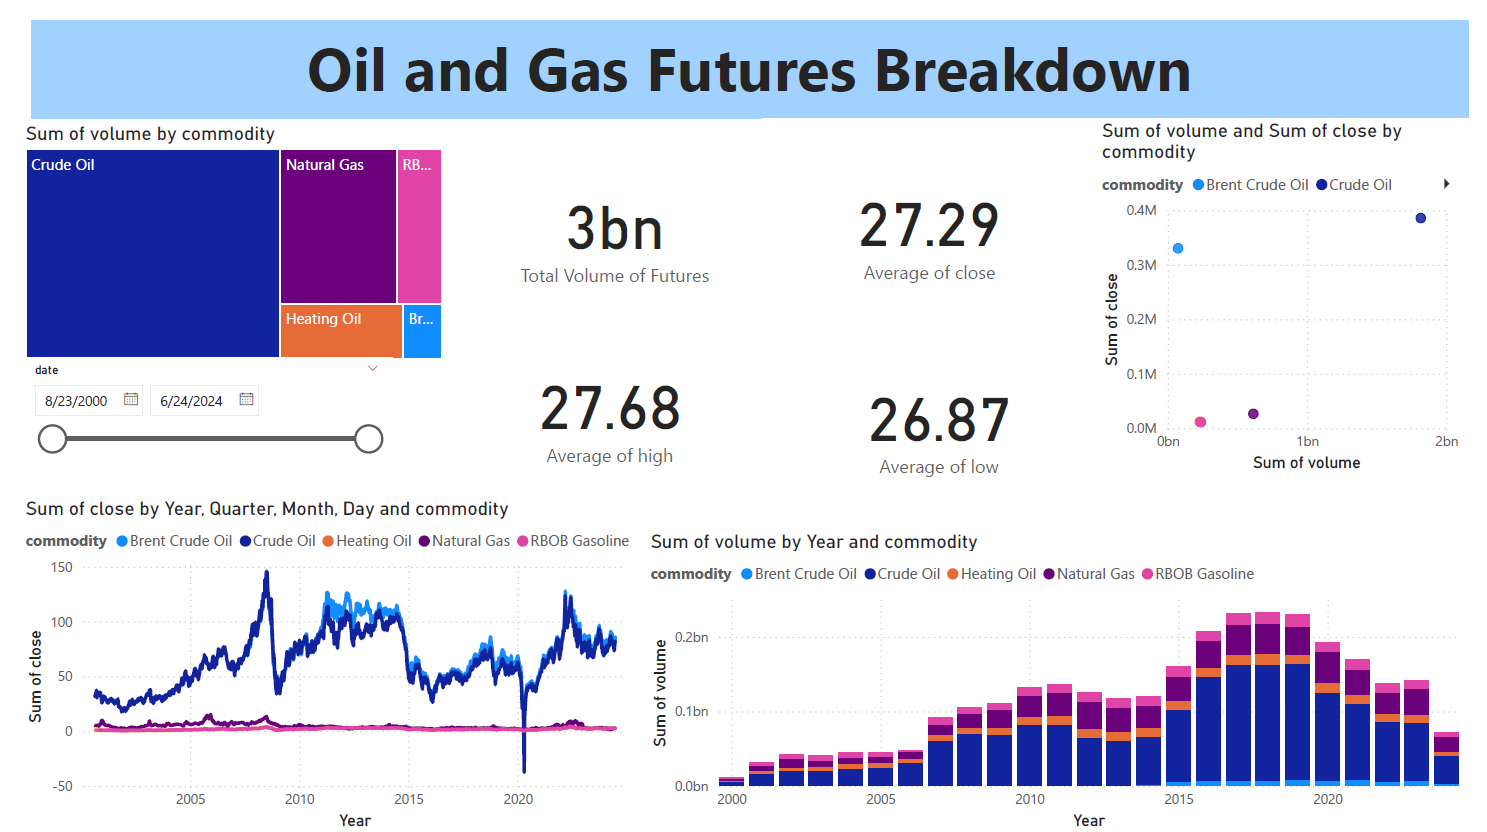

Layout of this report page (visuals, bound fields, positions):
{"tool":"powerbi","page":{"name":"Main","canvas":[1280,720],"ordinal":0},"visuals":[{"type":"textbox","box":[9.7,0,1270.3,86.6],"z":0},{"type":"card","fields":{"Values":["Sum(all_fuels_data.volume)"]},"box":[377.9,89.6,294.6,194.3],"z":1000},{"type":"treemap","fields":{"Group":["all_fuels_data.commodity"],"Values":["Sum(all_fuels_data.volume)"]},"box":[0,89.6,377.9,214.9],"z":2000},{"type":"card","fields":{"Values":["Avg(all_fuels_data.close)"]},"box":[656.4,86.9,294.6,194.3],"z":3000},{"type":"slicer","fields":{"Values":["all_fuels_data.date"]},"box":[0,298.2,328.7,97.6],"z":4000},{"type":"lineChart","fields":{"Y":["Sum(all_fuels_data.close)"],"Category":["all_fuels_data.date.Variation.Date Hierarchy.Year","all_fuels_data.date.Variation.Date Hierarchy.Quarter","all_fuels_data.date.Variation.Date Hierarchy.Month","all_fuels_data.date.Variation.Date Hierarchy.Day"],"Series":["all_fuels_data.commodity"]},"box":[0,420.9,544.5,299.1],"z":5000},{"type":"columnChart","fields":{"Category":["all_fuels_data.date.Variation.Date Hierarchy.Year"],"Y":["Sum(all_fuels_data.volume)"],"Series":["all_fuels_data.commodity"]},"box":[551.6,450.4,728.1,269.6],"z":6000},{"type":"scatterChart","fields":{"X":["Sum(all_fuels_data.volume)"],"Y":["Sum(all_fuels_data.close)"],"Series":["all_fuels_data.commodity"]},"box":[951,86.9,328.7,317],"z":7000},{"type":"card","fields":{"Values":["Avg(all_fuels_data.high)"]},"box":[396.7,271.3,248.1,149.6],"z":8000},{"type":"card","fields":{"Values":["Avg(all_fuels_data.low)"]},"box":[673,281,278,150],"z":9000}]}

Visuals, with their boxes in screenshot pixels (x1, y1, x2, y2), scaled from the page's 1280x720 canvas onto the 1487x832 screenshot:
textbox: crop(11, 0, 1486, 100)
card - Sum(all_fuels_data.volume): crop(439, 104, 781, 328)
treemap - all_fuels_data.commodity x Sum(all_fuels_data.volume): crop(0, 104, 439, 352)
card - Avg(all_fuels_data.close): crop(763, 100, 1105, 325)
slicer - all_fuels_data.date: crop(0, 345, 382, 457)
lineChart - Sum(all_fuels_data.close) x all_fuels_data.date.Variation.Date Hierarchy.Year: crop(0, 486, 633, 831)
columnChart - all_fuels_data.date.Variation.Date Hierarchy.Year x Sum(all_fuels_data.volume): crop(641, 520, 1486, 831)
scatterChart - Sum(all_fuels_data.volume) x Sum(all_fuels_data.close): crop(1105, 100, 1486, 467)
card - Avg(all_fuels_data.high): crop(461, 314, 749, 486)
card - Avg(all_fuels_data.low): crop(782, 325, 1105, 498)
